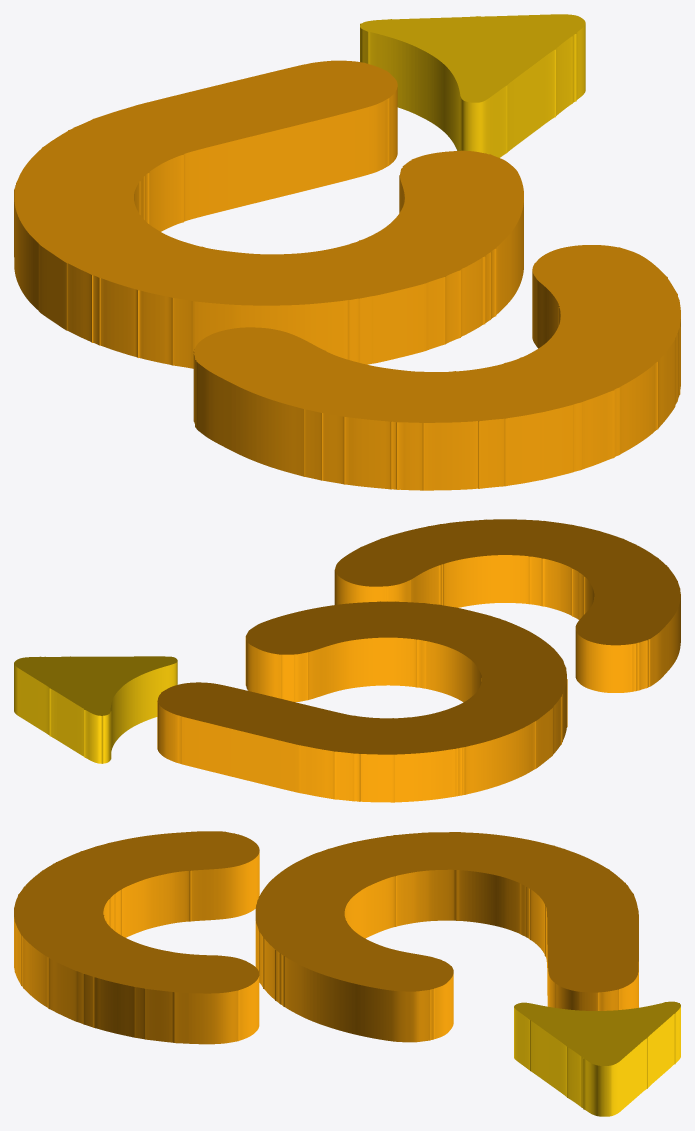
3 views of the same model, one above another, from view 1: azimuth 30°, elevation 25°; view 2: azimuth 150°, elevation 25°; view 3: azimuth 270°, elevation 25° (orthographic). The views are drawn at different scales.
Visible parts, largest first — view 1: g.com_g; view 2: g.com_g; view 3: g.com_g.
Boxes of the visible parts, bbox=[...] form: g.com_g: bbox=[14, 14, 680, 490]; g.com_g: bbox=[14, 519, 680, 802]; g.com_g: bbox=[14, 831, 680, 1116].
Bounding box in the file's own units: 3.91 × 0.3937 × 4.69.
